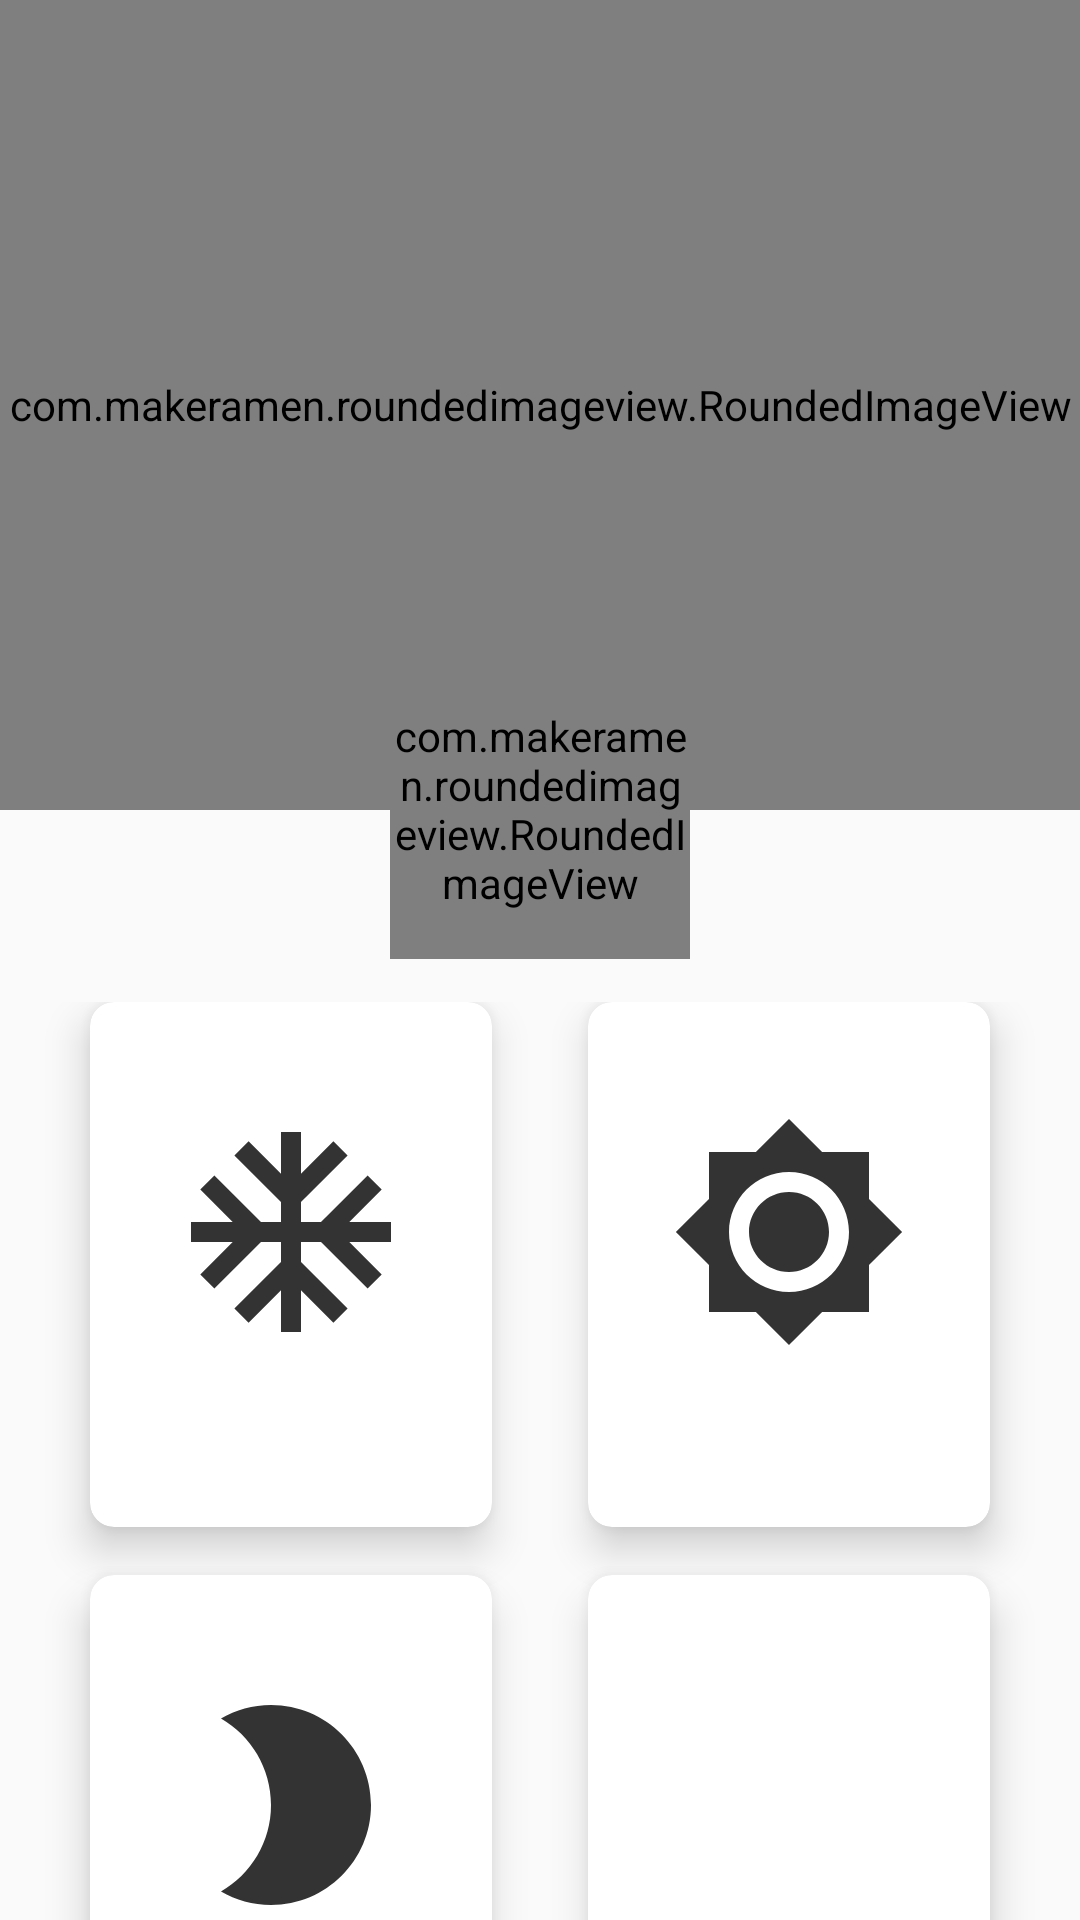

Point at icon controls on the screen. Image size 1080px×1920px, points as (x,y).
food afternoon: (789,1232)
food night: (296,1805)
